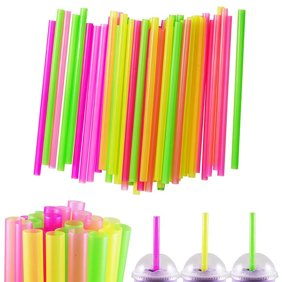Drinking Straw: (229, 7, 247, 170), (200, 211, 211, 272), (248, 212, 259, 272), (151, 214, 161, 271)
